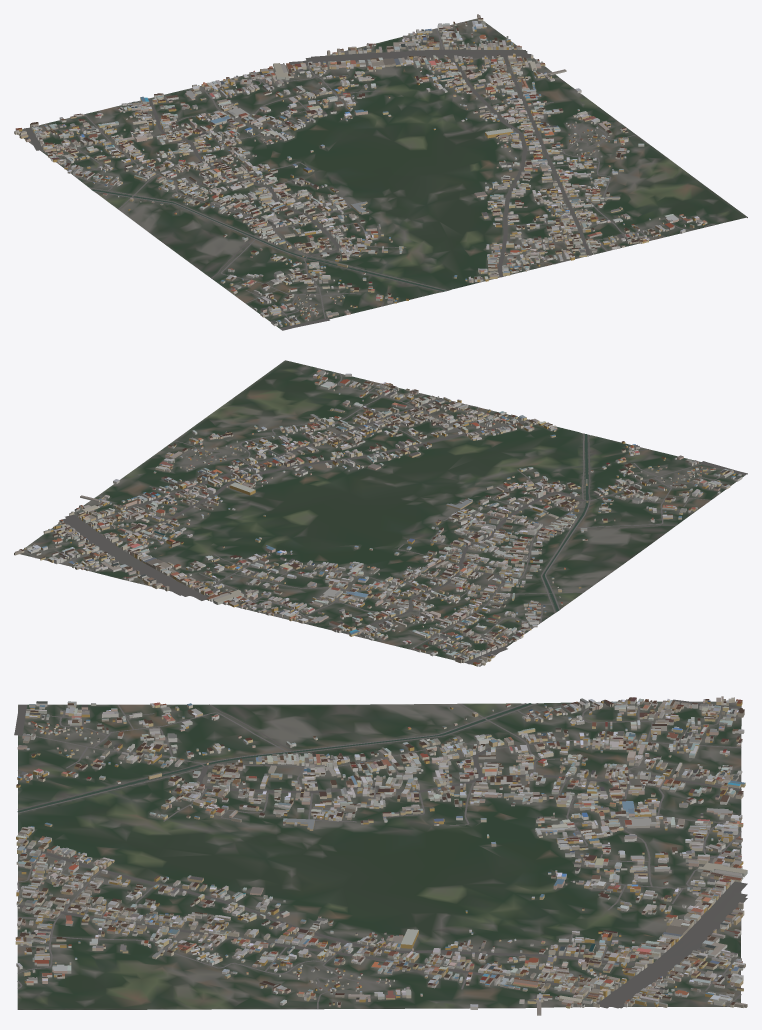
3 views of the same model, one above another, from view 1: azimuth 30°, elevation 25°; view 2: azimuth 150°, elevation 25°; view 3: azimuth 270°, elevation 25° (orthographic). The views are drawn at different scales.
Visible parts, largest first — view 1: ground, buildings, roads, water; view 2: ground, buildings, roads; view 3: ground, buildings, roads, water.
Boxes of the visible parts, x1,y1,x2,y2 form: ground: (14, 18, 747, 330); buildings: (14, 14, 707, 326); roads: (24, 21, 715, 330); water: (92, 189, 445, 291); ground: (20, 360, 747, 666); buildings: (14, 370, 742, 666); roads: (24, 368, 747, 664); ground: (17, 701, 741, 1009); buildings: (15, 696, 747, 1015); roads: (14, 699, 747, 1008); water: (17, 703, 531, 812).
Size of the model in its own units: 1442 by 24.42 by 1421.
